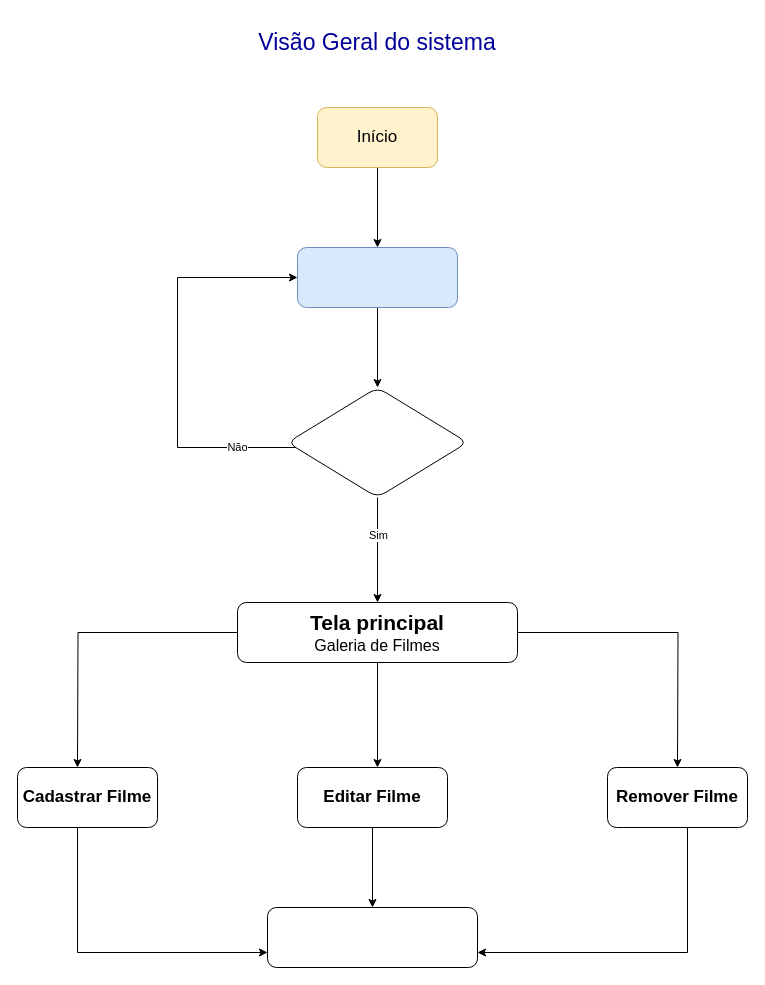
Some shapes in this 765 by 985 pixel diagram are drawn without their labels. The centre of each missing label's shape, as x and y in pixels:
Atualiza a Lista de Filmes Galeria de filmes: the point at 372,937
Login válido?: the point at 377,442
Tela do login informar e-mail e senha: the point at 377,277
